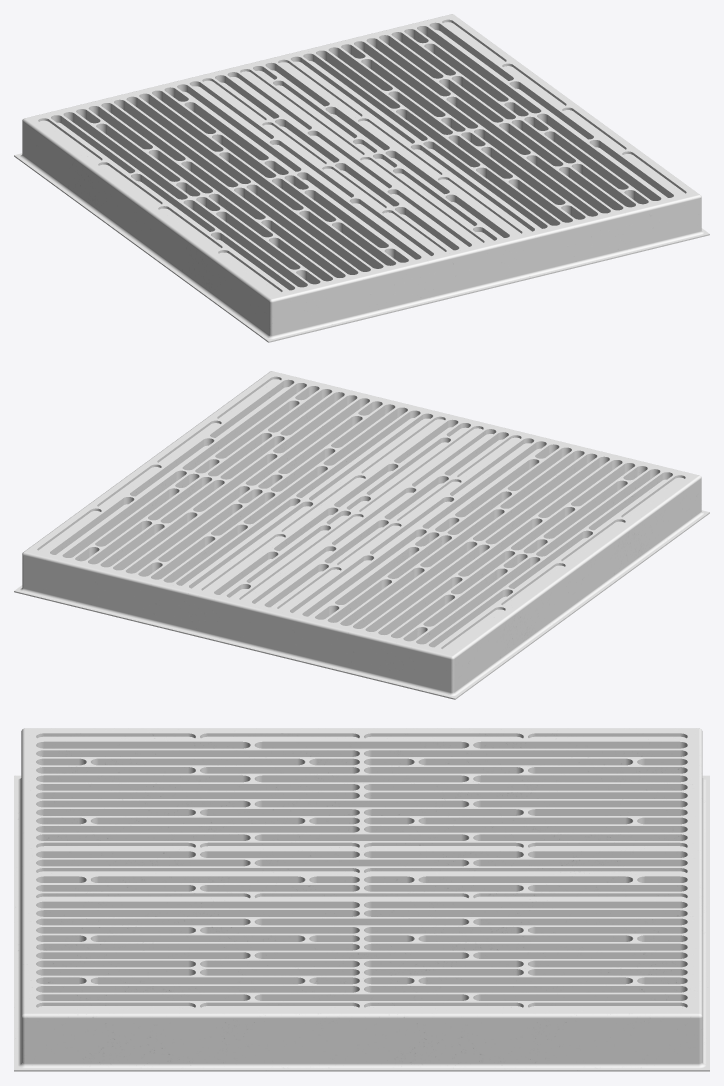
File: GuDPanelDCT.glb
3 views of the same model, one above another, from view 1: azimuth 30°, elevation 25°; view 2: azimuth 150°, elevation 25°; view 3: azimuth 270°, elevation 25° (orthographic). The views are drawn at different scales.
Parts seen in each view (by area): view 1: GuD Panel DCT v1; view 2: GuD Panel DCT v1; view 3: GuD Panel DCT v1.
Boxes of the visible parts, x1,y1,x2,y2 form: GuD Panel DCT v1: (14, 14, 709, 342); GuD Panel DCT v1: (14, 371, 709, 699); GuD Panel DCT v1: (14, 728, 709, 1071).
Bounding box in the file's own units: 23.62 × 2 × 23.63.
1 material, 1 textured.
